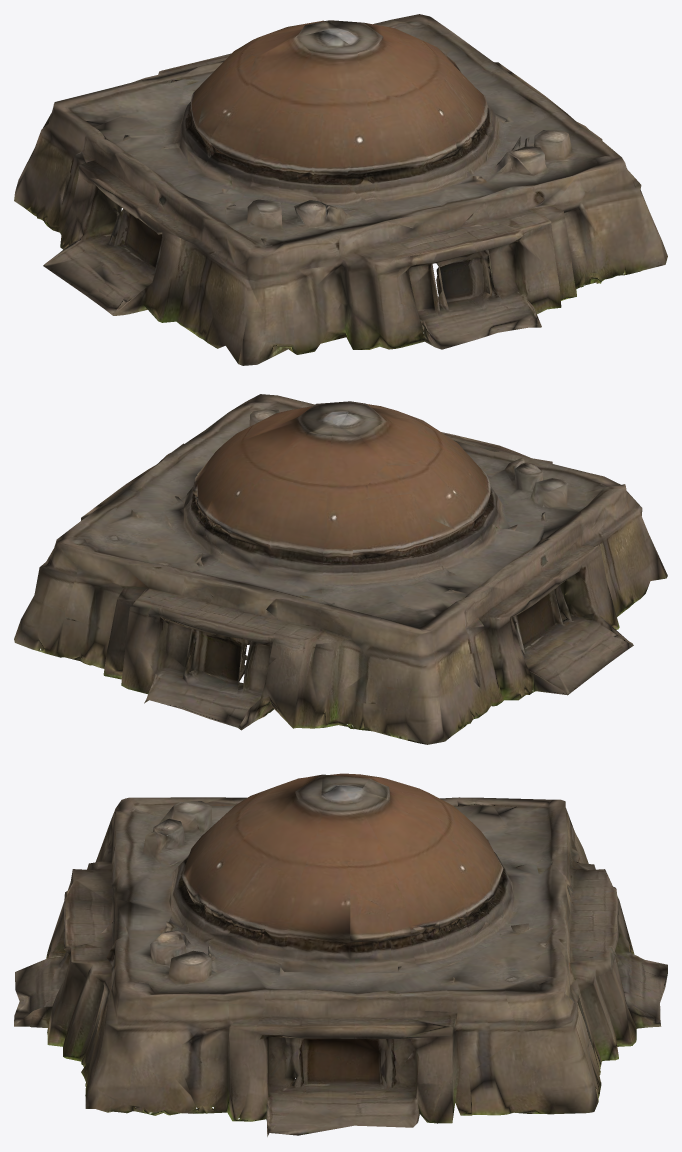
Rendered from bunker_dome.glb.
3 renders of one model, top to bottom at view 1: azimuth 30°, elevation 25°; view 2: azimuth 150°, elevation 25°; view 3: azimuth 270°, elevation 25°, orthographic. The views are drawn at different scales.
Visible parts, largest first — view 1: bunker_dome; view 2: bunker_dome; view 3: bunker_dome.
Part boxes in pixels (left/top/right/bottom): bunker_dome: left=14, top=14, right=667, bottom=365; bunker_dome: left=14, top=394, right=667, bottom=744; bunker_dome: left=14, top=773, right=667, bottom=1136.
Bounding box in the file's own units: 2 × 0.7648 × 1.99.
Materials: 1 (1 with a texture image).
